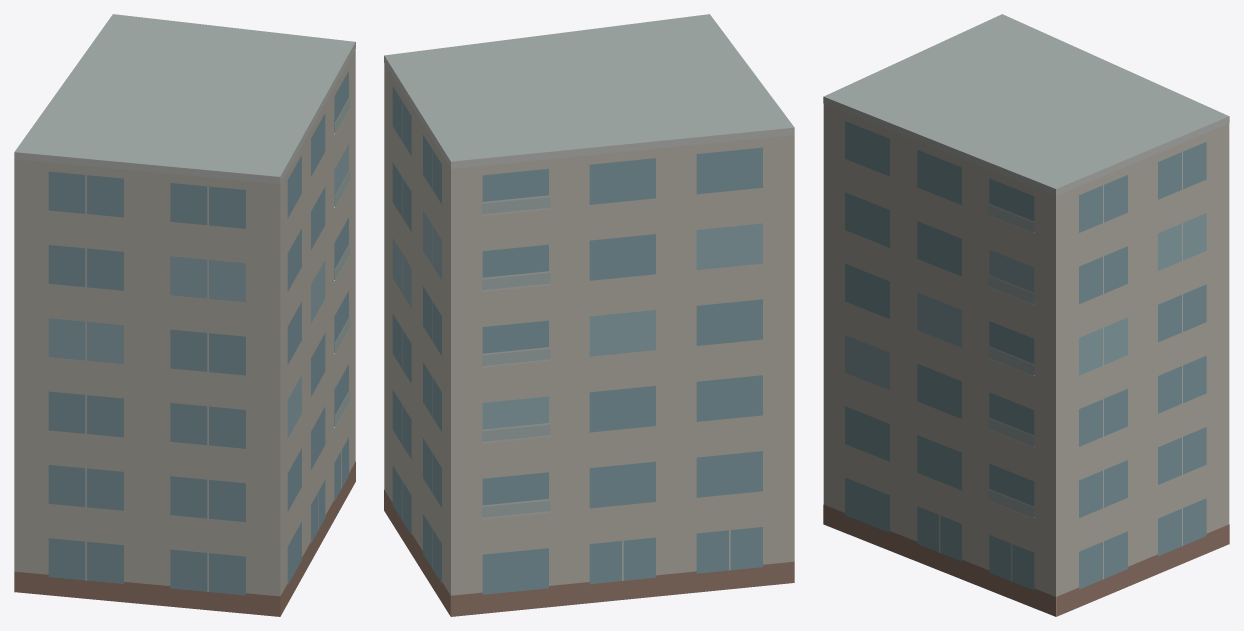
Rendered from survey-upis-32851618.glb.
The picture shows the model from 3 angles, left to right: view 1: azimuth 30°, elevation 25°; view 2: azimuth 150°, elevation 25°; view 3: azimuth 270°, elevation 25°; orthographic projection. The views are drawn at different scales.
Visible parts, largest first — view 1: survey-upis-32851618.tmp; view 2: survey-upis-32851618.tmp; view 3: survey-upis-32851618.tmp.
Boxes of the visible parts, x1,y1,x2,y2 form: survey-upis-32851618.tmp: (14, 14, 355, 616); survey-upis-32851618.tmp: (384, 14, 794, 616); survey-upis-32851618.tmp: (823, 14, 1229, 616).
Size of the model in its own units: 13.13 by 14.95 by 12.87.
